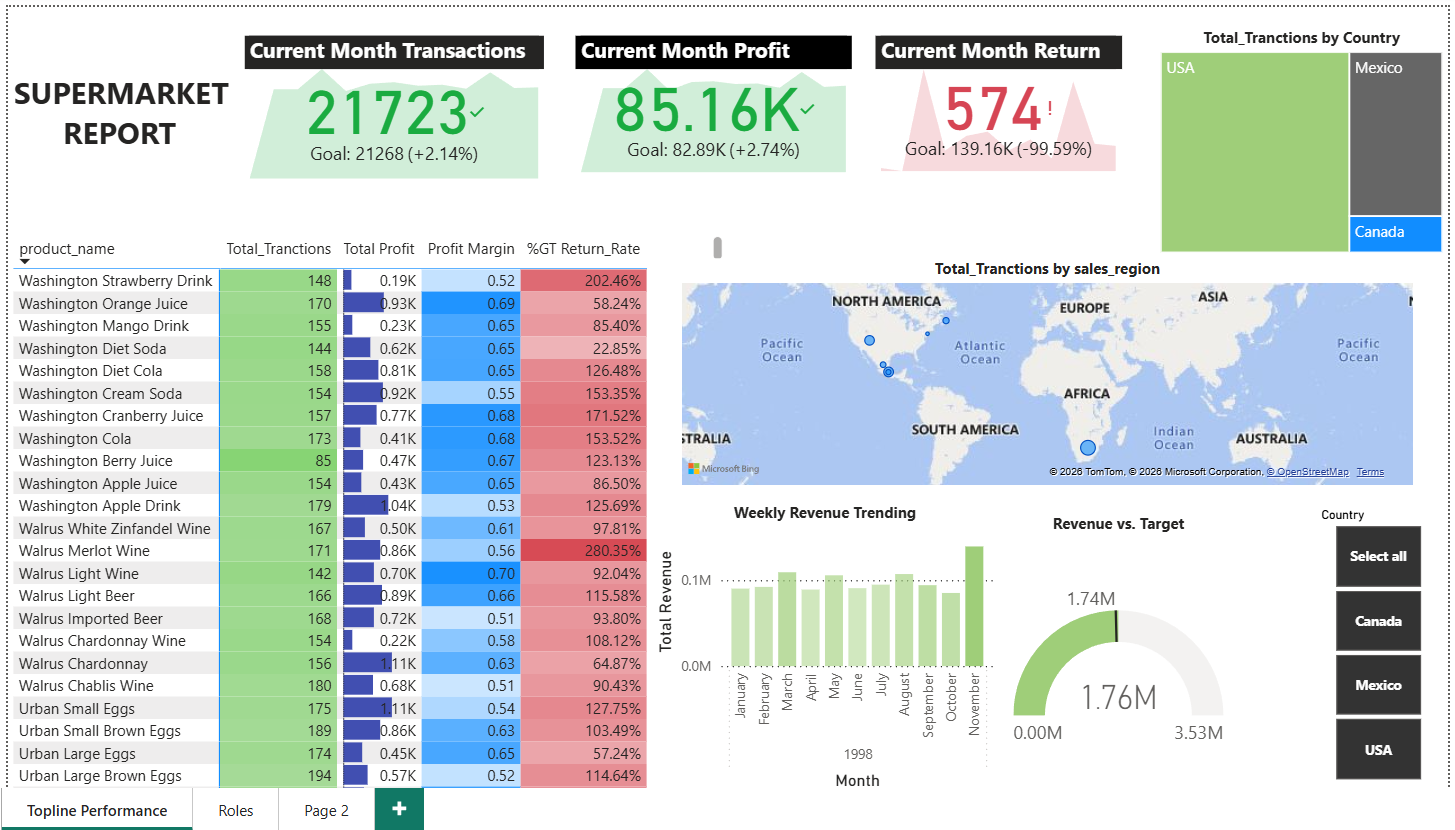

This screenshot's page, from the dashboard's own definition file:
{"tool":"powerbi","page":{"name":"Topline Performance","canvas":[1280,720],"ordinal":0},"visuals":[{"type":"pivotTable","fields":{"Rows":["Products.product_name"],"Values":["Transaction_Data.Total_Tranctions","Transaction_Data.Total Profit","Transaction_Data.Profit Margin","Returns_Data.Return_Rate"]},"box":[0,198.8,640,521.2],"z":0},{"type":"kpi","title":"Current Month Transactions","fields":{"Goal":["Transaction_Data.Last Month Transactions"],"Indicator":["Transaction_Data.Total_Tranctions"],"TrendLine":["Calendar.Name of Month"]},"box":[210,25.6,266.7,132.2],"z":1},{"type":"kpi","title":"Current Month Profit","fields":{"Goal":["Transaction_Data.Last Month Profit"],"Indicator":["Transaction_Data.Total Profit"],"TrendLine":["Calendar.Name of Month"]},"box":[496.7,24.4,245.6,126.7],"z":2},{"type":"kpi","title":"Current Month Return","fields":{"Goal":["Transaction_Data.Last Month Returns"],"Indicator":["Returns_Data.Total_Returns"],"TrendLine":["Calendar.Name of Month"]},"box":[771.1,25.6,218.9,125.6],"z":3},{"type":"map","fields":{"Category":["Regions.sales_region"],"Size":["Transaction_Data.Total_Tranctions"]},"box":[594.4,223.3,658.9,206.7],"z":4},{"type":"slicer","fields":{"Values":["Stores.Country"]},"box":[1154.4,440,125.6,253.3],"z":5},{"type":"treemap","fields":{"Group":["Stores.Country Hierarchy.Country","Stores.Country Hierarchy.State","Stores.Country Hierarchy.City"],"Values":["Transaction_Data.Total_Tranctions"]},"box":[1020,17.8,260,205.6],"z":6},{"type":"columnChart","title":"Weekly Revenue Trending","fields":{"Category":["Calendar.Start of Week.Variation.Date Hierarchy.Year","Calendar.Start of Week.Variation.Date Hierarchy.Month"],"Y":["Transaction_Data.Total Revenue"]},"box":[571.1,440,310,268.9],"z":7},{"type":"gauge","title":"Revenue vs. Target","fields":{"TargetValue":["Transaction_Data.Revenu Target"],"Y":["Transaction_Data.Total Revenue"]},"box":[888.9,450,196.7,248.9],"z":8},{"type":"textbox","title":"REPORT","box":[0,17.8,210,148.9],"z":9}]}

Visuals, with their boxes on the page's 1280x720 design canvas (x1, y1, x2, y2). These are canvas units, not pixel positions in the 1455x830 screenshot, which may show the page scaled, cropped or inside an application window:
pivotTable - Products.product_name x Transaction_Data.Total_Tranctions: (x1=0, y1=199, x2=640, y2=720)
"Current Month Transactions" kpi: (x1=210, y1=26, x2=477, y2=158)
"Current Month Profit" kpi: (x1=497, y1=24, x2=742, y2=151)
"Current Month Return" kpi: (x1=771, y1=26, x2=990, y2=151)
map - Regions.sales_region x Transaction_Data.Total_Tranctions: (x1=594, y1=223, x2=1253, y2=430)
slicer - Stores.Country: (x1=1154, y1=440, x2=1280, y2=693)
treemap - Stores.Country Hierarchy.Country x Stores.Country Hierarchy.State: (x1=1020, y1=18, x2=1280, y2=223)
"Weekly Revenue Trending" columnChart: (x1=571, y1=440, x2=881, y2=709)
"Revenue vs. Target" gauge: (x1=889, y1=450, x2=1086, y2=699)
"REPORT" textbox: (x1=0, y1=18, x2=210, y2=167)
